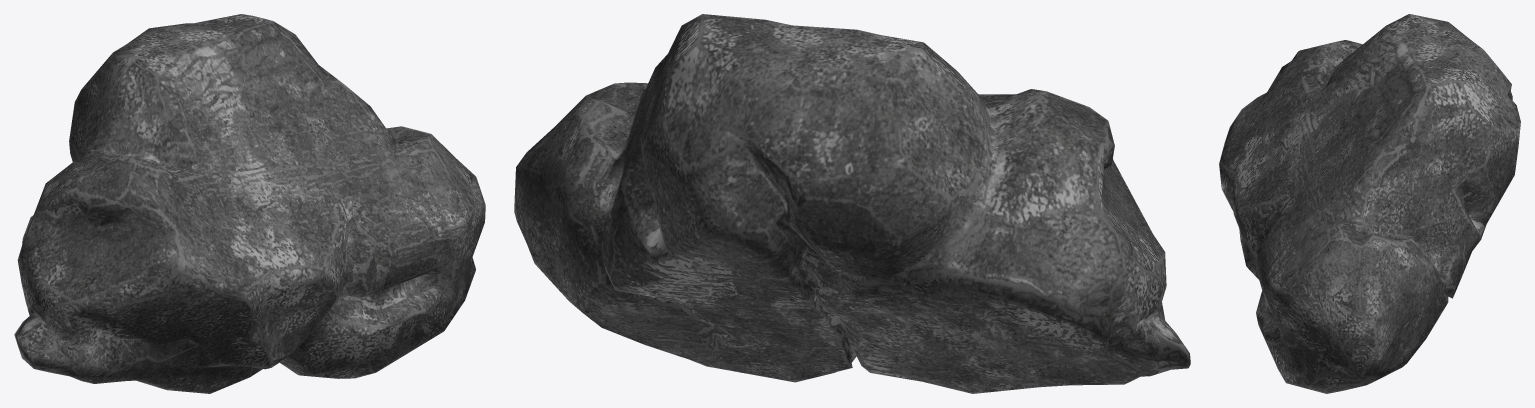
Rendered from Rock_4.fbx.
3 views of the same model, side by side, from view 1: azimuth 30°, elevation 25°; view 2: azimuth 150°, elevation 25°; view 3: azimuth 270°, elevation 25° (orthographic). The views are drawn at different scales.
Visible parts, largest first — view 1: Rock_4_Baked; view 2: Rock_4_Baked; view 3: Rock_4_Baked.
Part boxes in pixels (x1=…): Rock_4_Baked: x1=14, y1=14, x2=485, y2=393; Rock_4_Baked: x1=514, y1=14, x2=1190, y2=393; Rock_4_Baked: x1=1219, y1=14, x2=1520, y2=393.
Size of the model in its own units: 2 by 1.2 by 1.28.
1 material, 1 textured.
